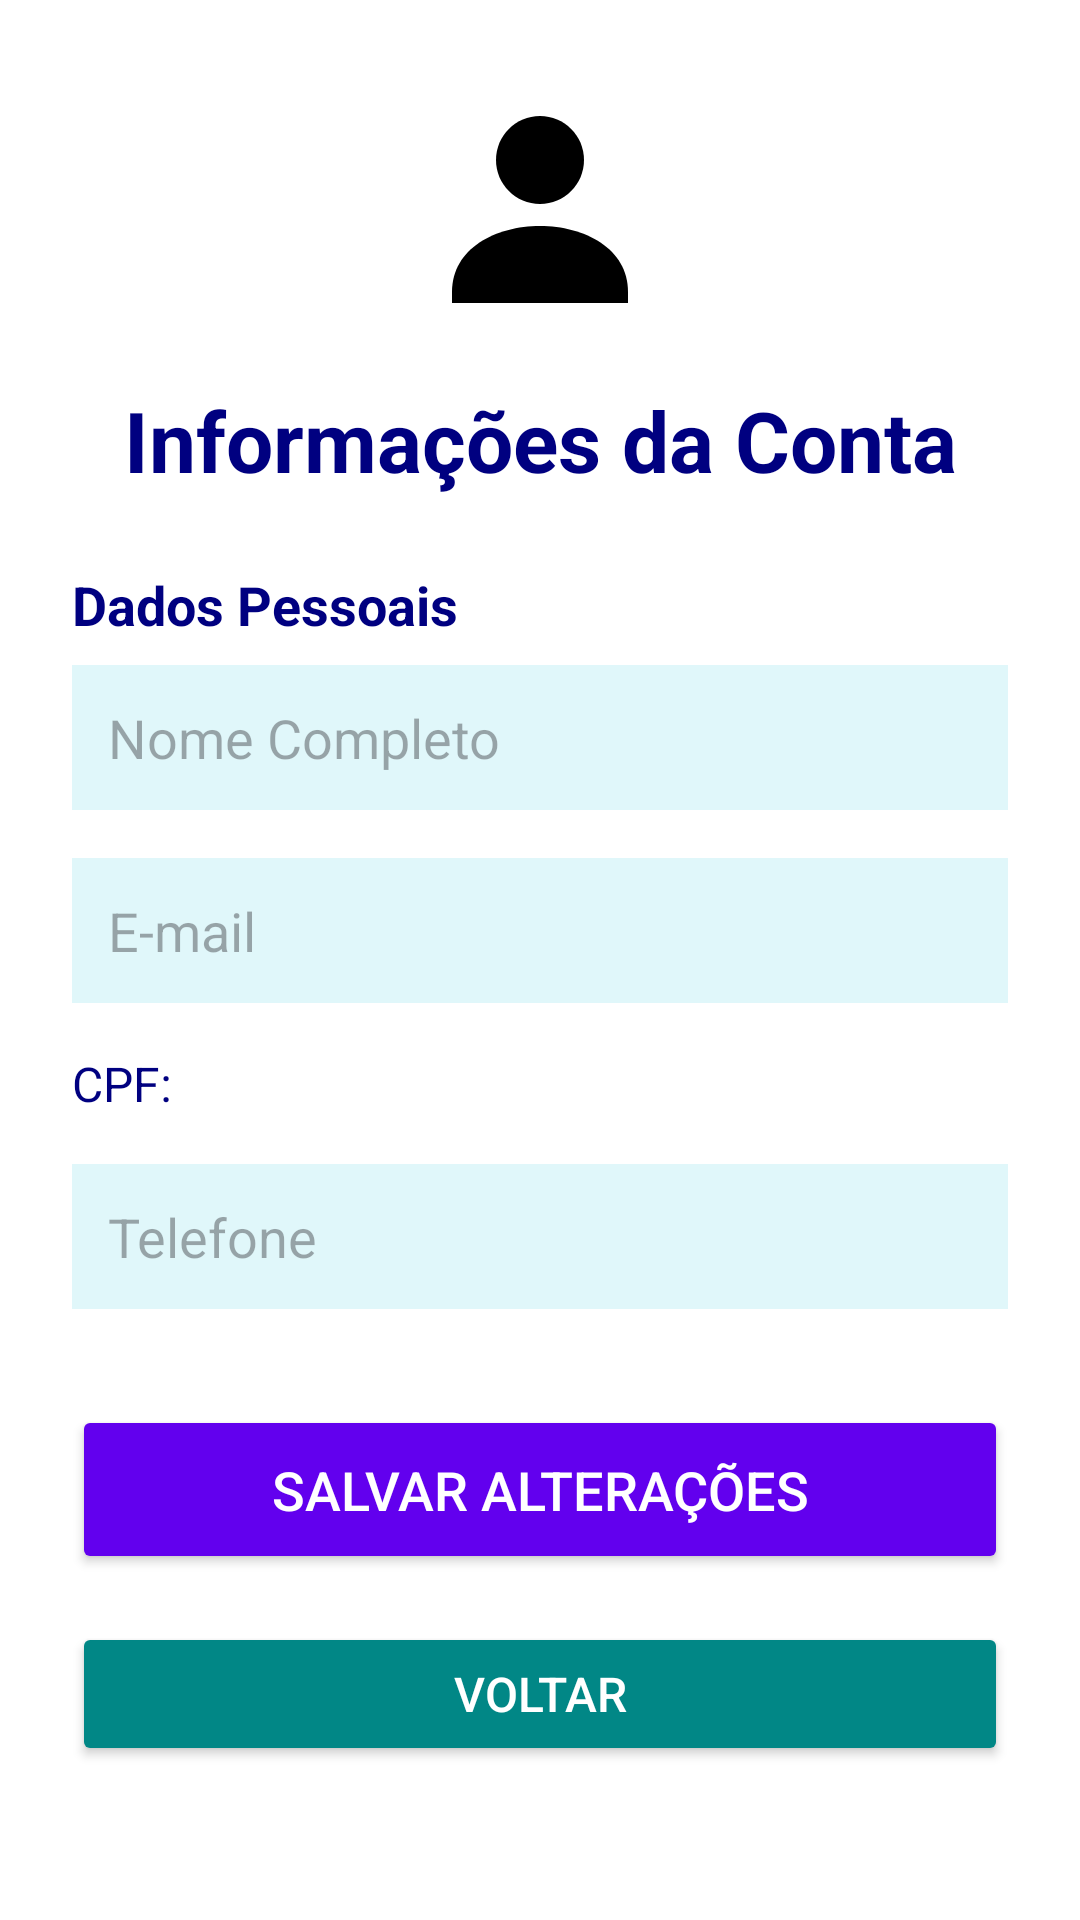

Icons on this 1080 x 1920 Android screen, each with its box as [left=x1, top=y1, right=x2, bottom=y2]:
Ícone de Conta: [left=452, top=116, right=628, bottom=303]
